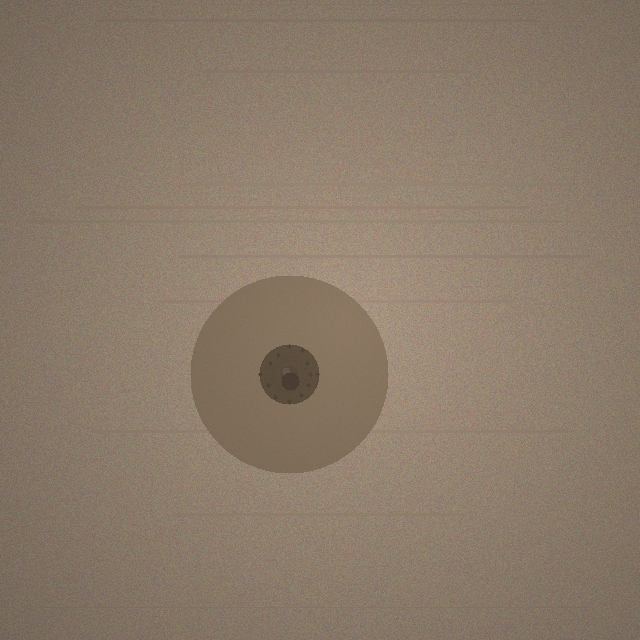cold_weld: (190, 275, 388, 473)
